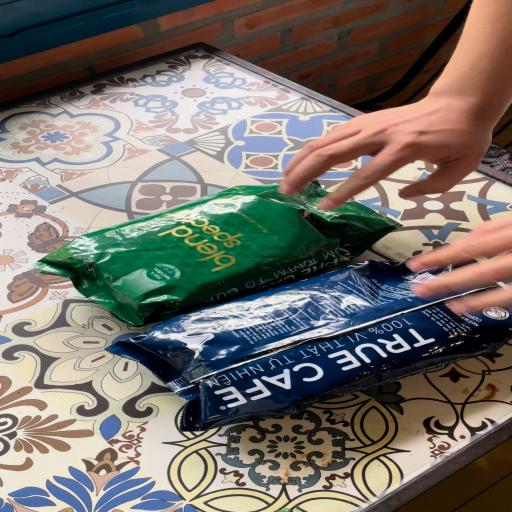cafe_hat: (106, 261, 512, 432)
cafe_xay: (34, 182, 395, 326)
